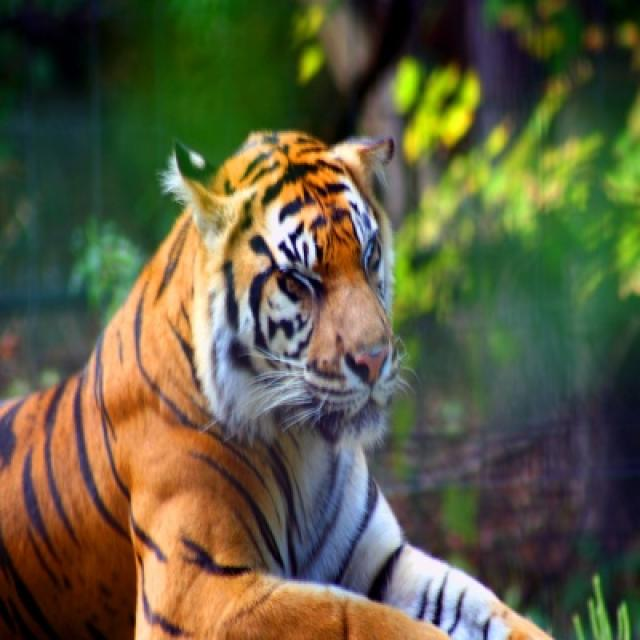Tiger: (0, 133, 549, 638)
